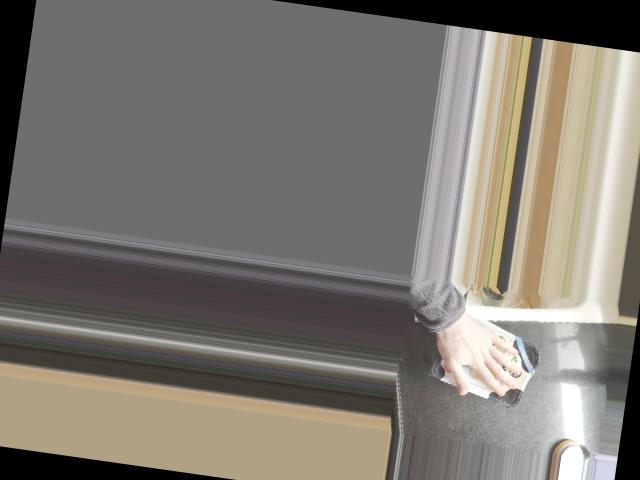cheese: (425, 303, 547, 412)
